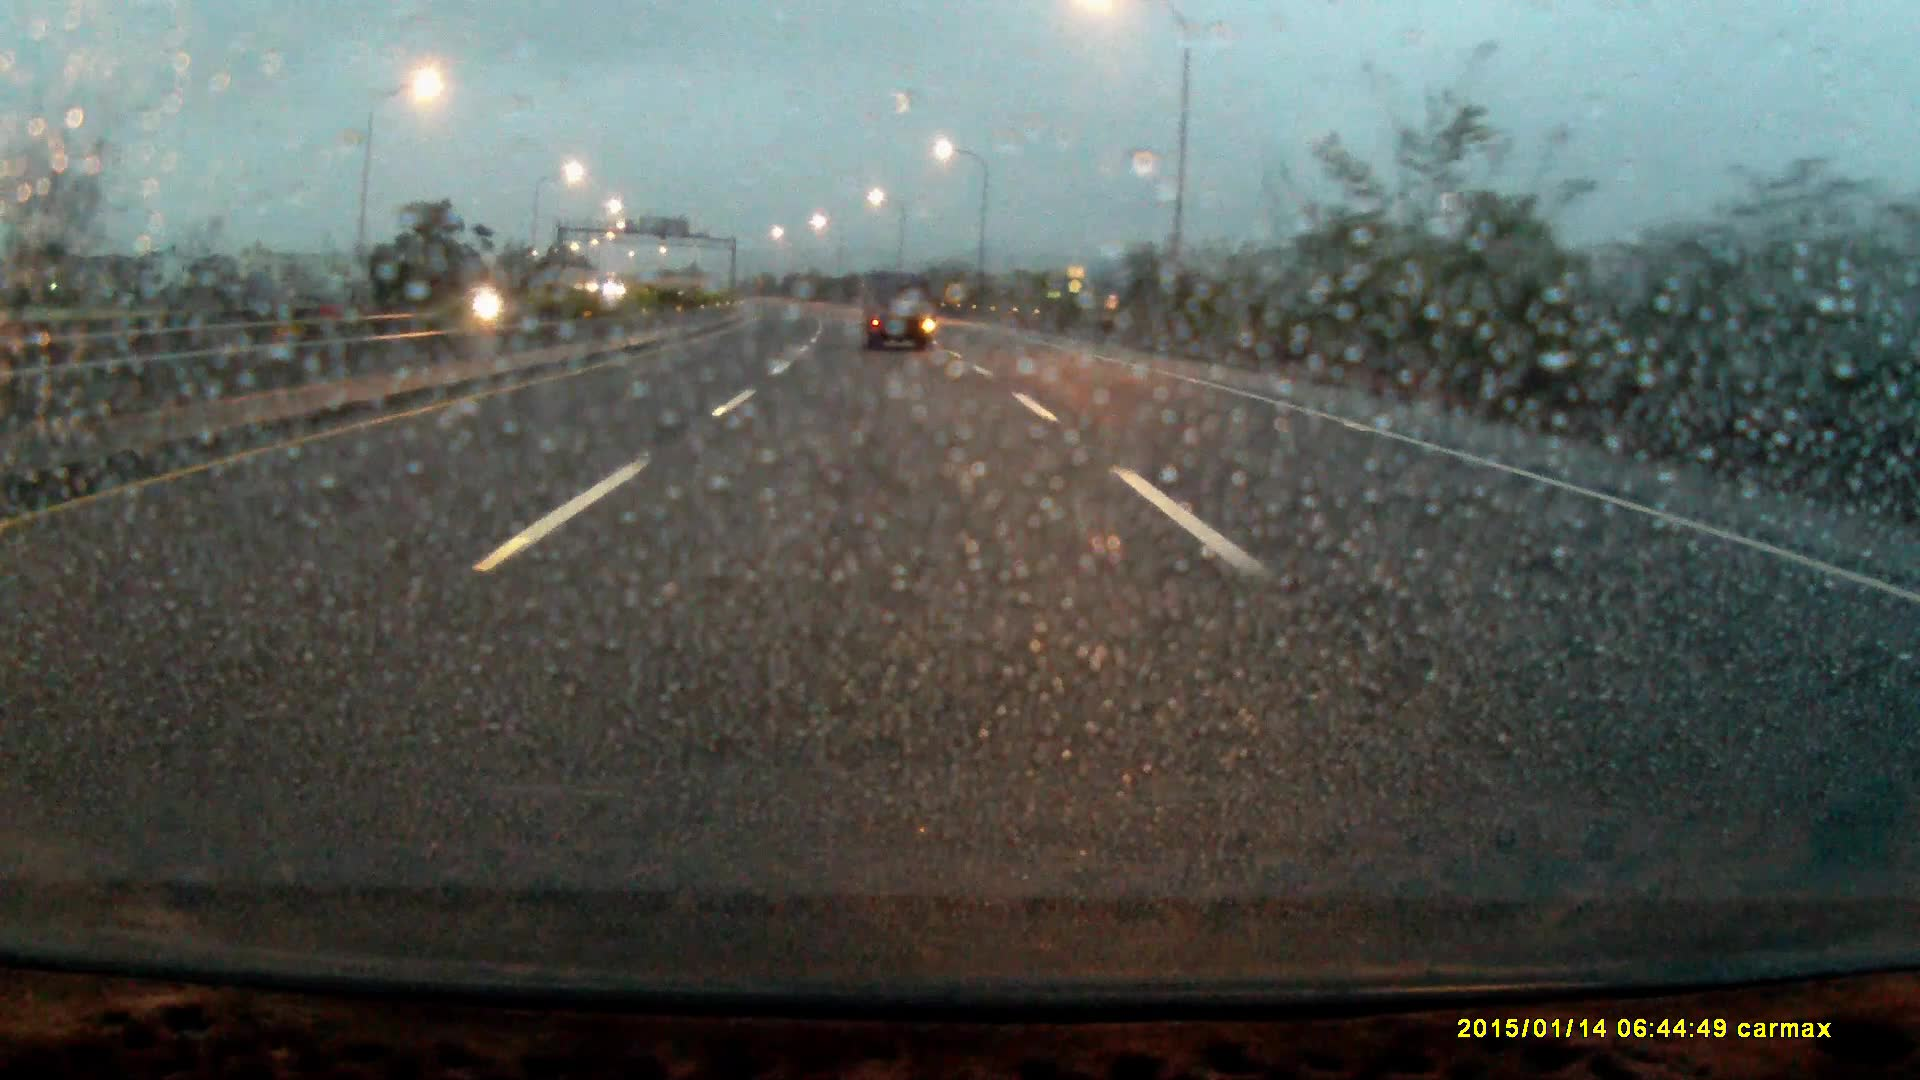vehicle: (862, 269, 934, 352), (451, 284, 518, 320)
